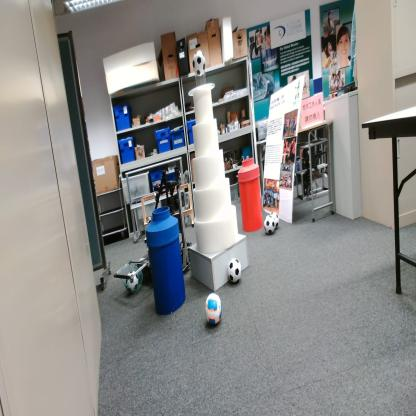ball: (206, 292, 222, 326), (192, 51, 206, 77), (228, 258, 242, 283), (126, 271, 138, 290), (264, 215, 275, 235), (272, 212, 280, 227)
